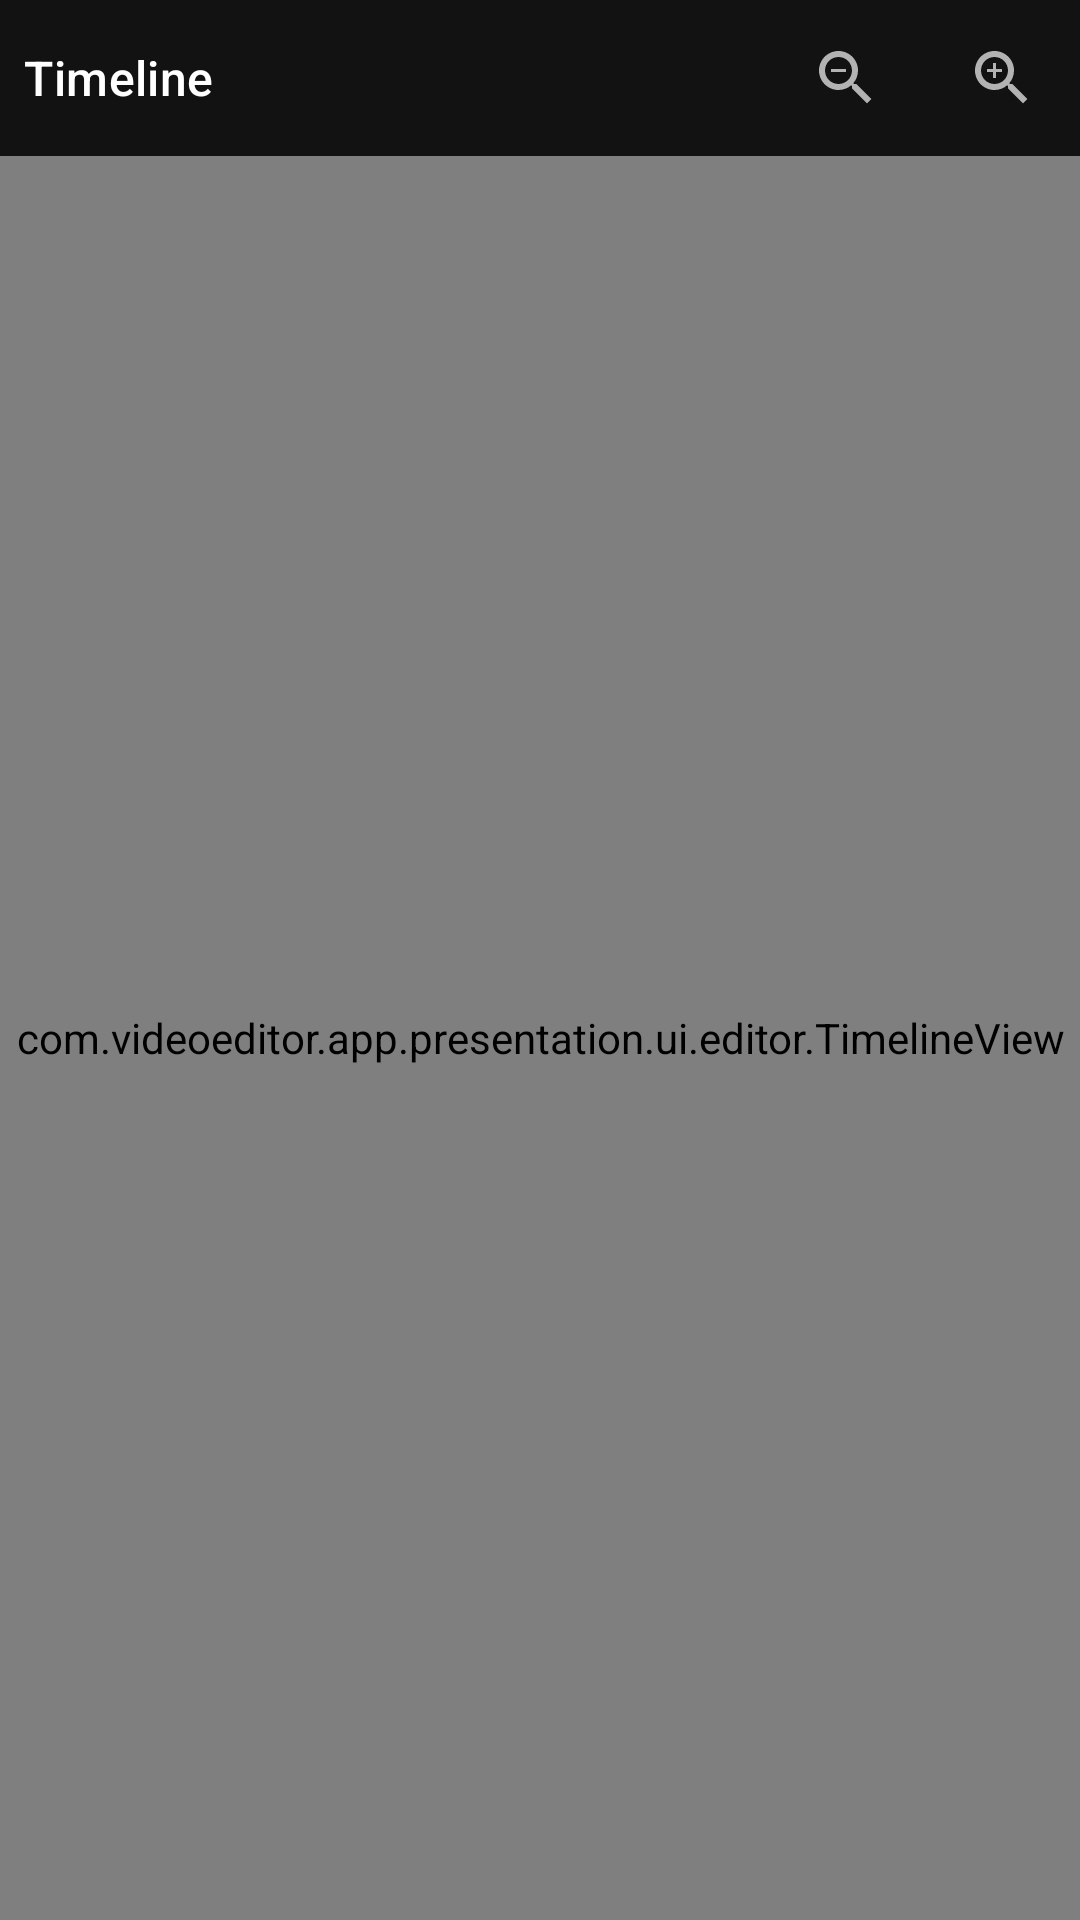

Where icons sit on this 1080w x 1920h app screen, as (x1, y1, x2, y2):
Zoom In: (975, 51, 1027, 103)
Zoom Out: (819, 51, 871, 103)
